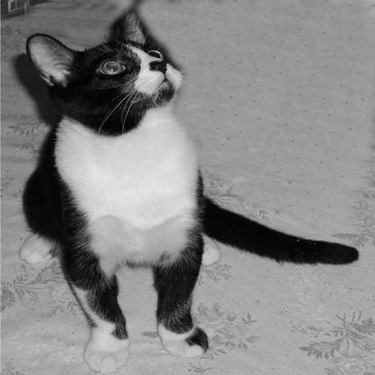cat: (17, 7, 360, 368)
